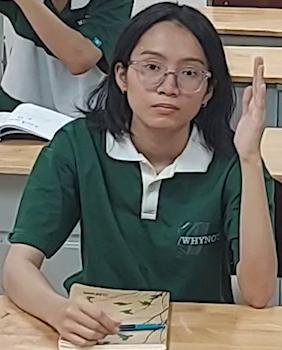Raising_Hand: (3, 5, 278, 343)
